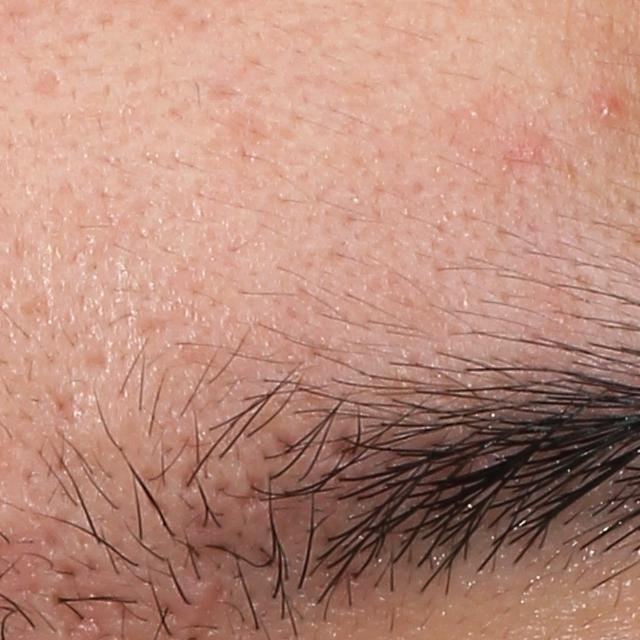atrophic_scar: (30, 71, 63, 95), (84, 354, 113, 373)
comedo: (466, 107, 483, 121)
papule: (598, 97, 622, 123)
